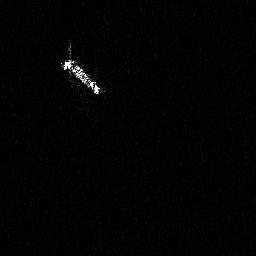ship: (58, 56, 102, 95)
